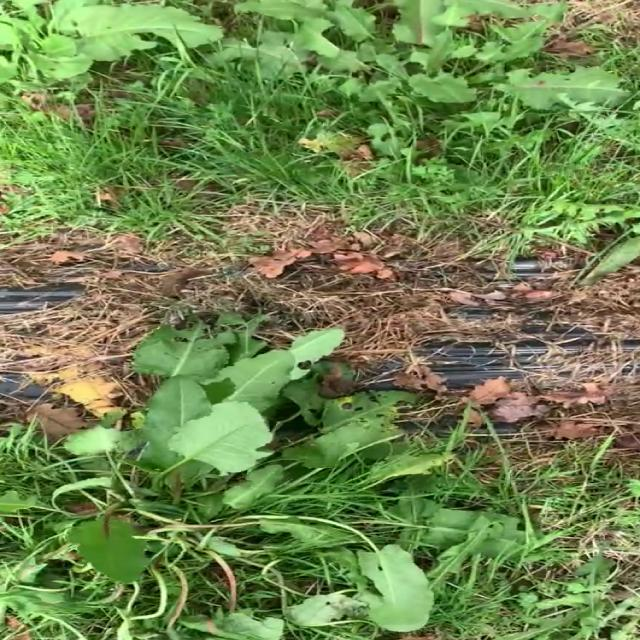organic waste: (4, 264, 540, 640), (182, 0, 640, 136), (0, 0, 242, 110)
